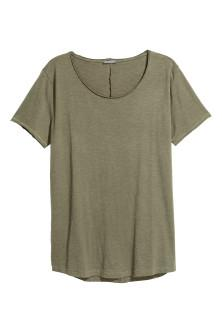teeshirt: (12, 50, 222, 289)
